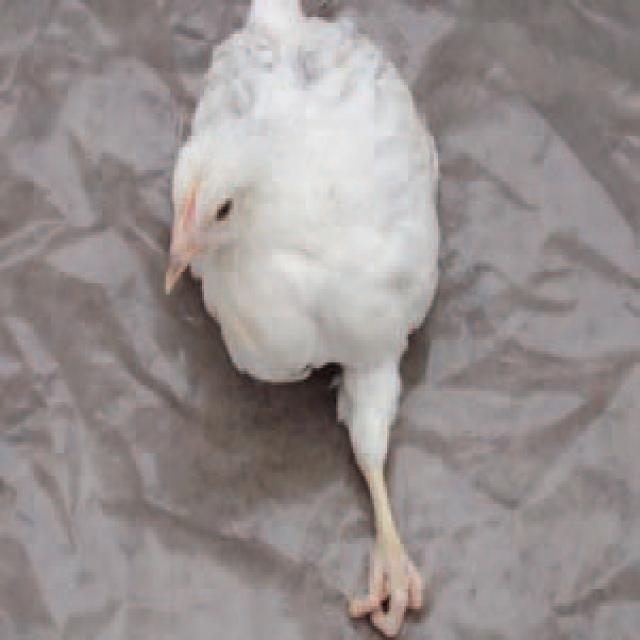AbNormal: (160, 12, 444, 639)
